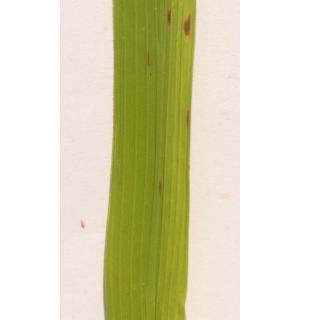bercak-Cokelat: (142, 44, 156, 80), (181, 11, 196, 43), (164, 6, 175, 27), (156, 175, 164, 198), (184, 106, 191, 131)
